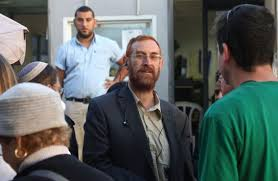middle_eastern_male: (129, 43, 161, 92)
